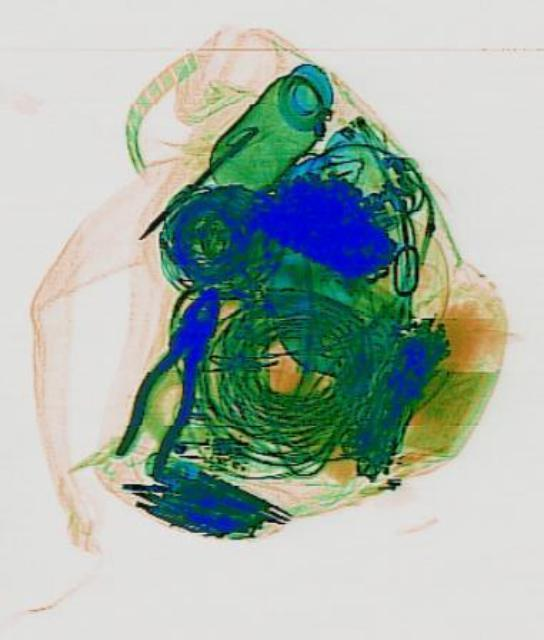Pliers: (104, 274, 237, 482)
